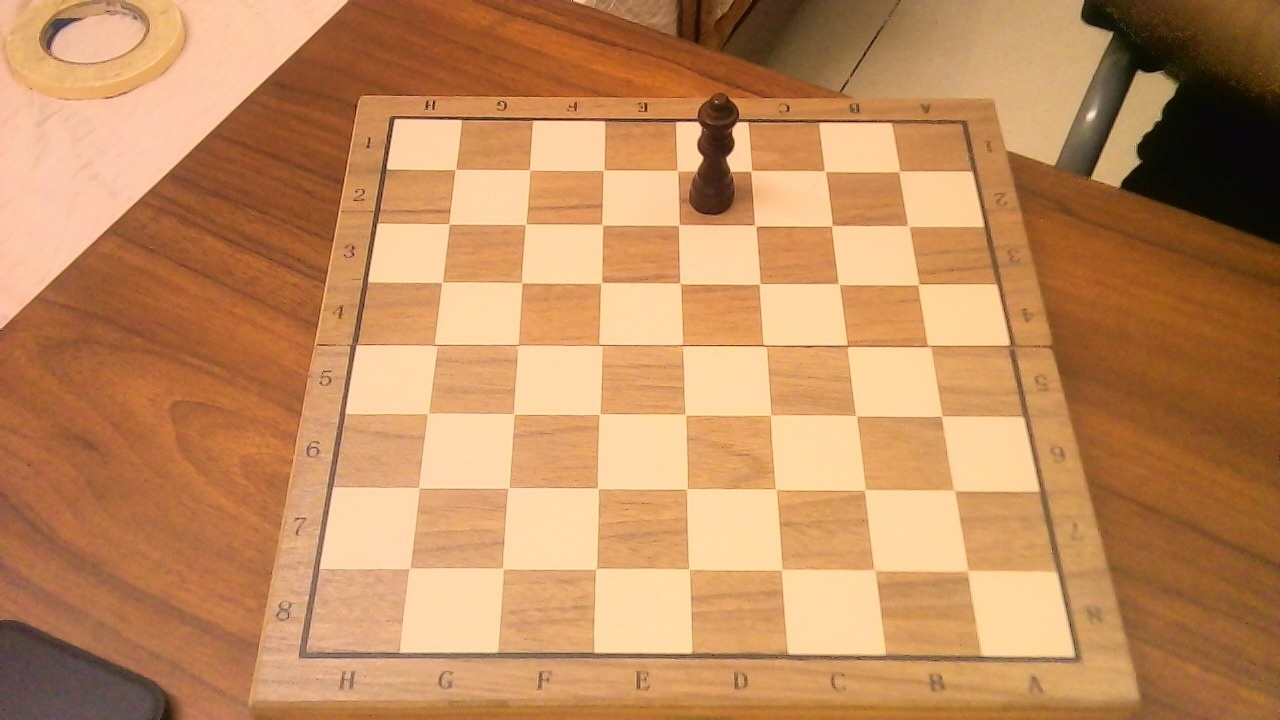q: (685, 80, 754, 218)
